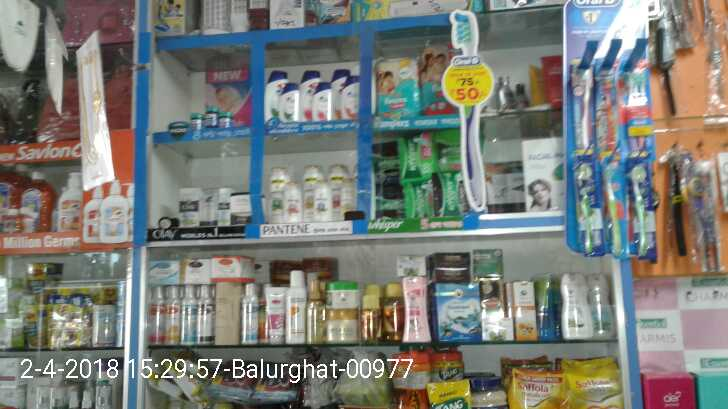oralcare: (576, 1, 648, 263)
vicks: (190, 107, 236, 130)
